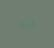eight: (29, 19, 33, 27)
one: (24, 20, 28, 27)
zero: (18, 20, 22, 28)
